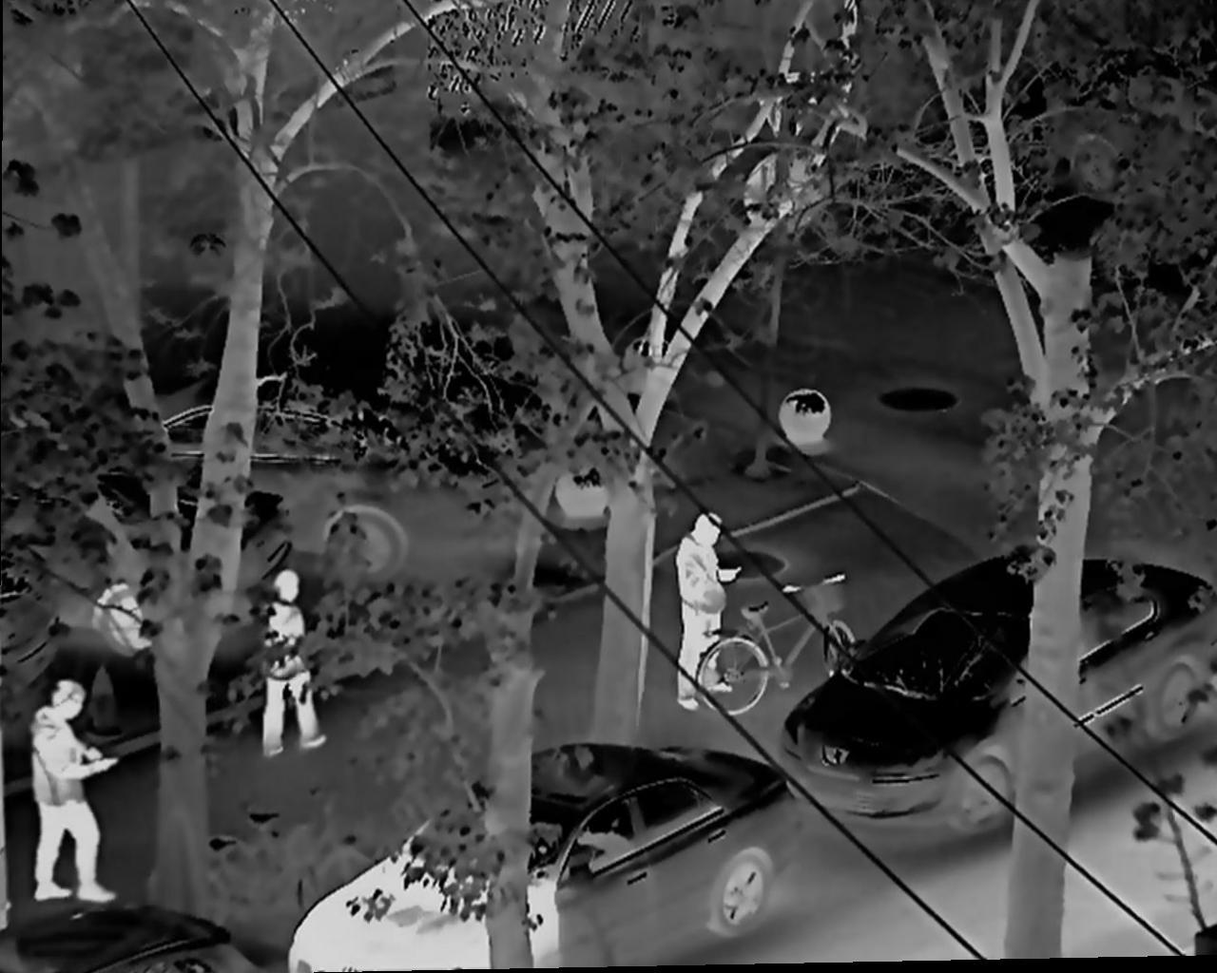person: (29, 680, 121, 902), (675, 513, 743, 710), (262, 569, 330, 757)
